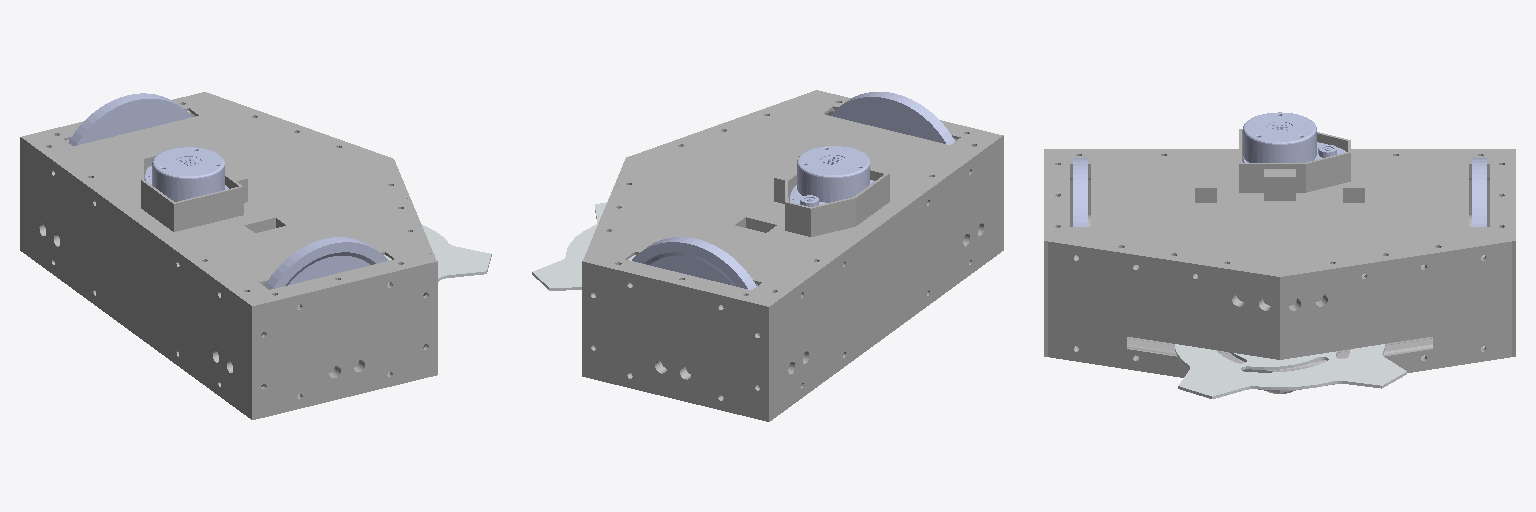
The robot description file, URDF, robot "r8_2020":
<?xml version="1.0" encoding="utf-8"?>
<!-- This URDF was automatically created by SolidWorks to URDF Exporter! Originally created by [author] ([email redacted]) 
     Commit Version: 1.6.0-1-g15f4949  Build Version: 1.6.7594.29634
     For more information, please see http://wiki.ros.org/sw_urdf_exporter -->
<robot
  name="r8_2020">
  <link
    name="base_link">
    <inertial>
      <origin
        xyz="0.024609 1.3198E-05 0.083981"
        rpy="0 0 0" />
      <mass
        value="8.9635" />
      <inertia
        ixx="0.049118"
        ixy="-3.0819E-05"
        ixz="0.00014761"
        iyy="0.014351"
        iyz="4.0842E-08"
        izz="0.057037" />
    </inertial>
    <visual>
      <origin
        xyz="0 0 0"
        rpy="0 0 0" />
      <geometry>
        <mesh
          filename="package://r8_2020/meshes/base_link.STL" />
      </geometry>
      <material
        name="">
        <color
          rgba="0.75294 0.75294 0.75294 1" />
      </material>
    </visual>
    <collision>
      <origin
        xyz="0 0 0"
        rpy="0 0 0" />
      <geometry>
        <mesh
          filename="package://r8_2020/meshes/base_link.STL" />
      </geometry>
    </collision>
  </link>
  <link
    name="left_wheel_link">
    <inertial>
      <origin
        xyz="0 -0.00085238 0"
        rpy="0 0 0" />
      <mass
        value="0.23727" />
      <inertia
        ixx="0.00040071"
        ixy="8.7944E-20"
        ixz="-1.2664E-21"
        iyy="0.00079555"
        iyz="-1.466E-20"
        izz="0.00040071" />
    </inertial>
    <visual>
      <origin
        xyz="0 0 0"
        rpy="0 0 0" />
      <geometry>
        <mesh
          filename="package://r8_2020/meshes/left_wheel_link.STL" />
      </geometry>
      <material
        name="">
        <color
          rgba="0.79216 0.81961 0.93333 1" />
      </material>
    </visual>
    <collision>
      <origin
        xyz="0 0 0"
        rpy="0 0 0" />
      <geometry>
        <mesh
          filename="package://r8_2020/meshes/left_wheel_link.STL" />
      </geometry>
    </collision>
  </link>
  <joint
    name="left_wheel_joint"
    type="continuous">
    <origin
      xyz="0 0.18883 0.088"
      rpy="0 0 0" />
    <parent
      link="base_link" />
    <child
      link="left_wheel_link" />
    <axis
      xyz="0 1 0" />
  </joint>
  <link
    name="right_wheel_link">
    <inertial>
      <origin
        xyz="0 0.00085238 0"
        rpy="0 0 0" />
      <mass
        value="0.23727" />
      <inertia
        ixx="0.00040071"
        ixy="-2.6705E-18"
        ixz="1.0519E-20"
        iyy="0.00079555"
        iyz="1.4331E-20"
        izz="0.00040071" />
    </inertial>
    <visual>
      <origin
        xyz="0 0 0"
        rpy="0 0 0" />
      <geometry>
        <mesh
          filename="package://r8_2020/meshes/right_wheel_link.STL" />
      </geometry>
      <material
        name="">
        <color
          rgba="0.79216 0.81961 0.93333 1" />
      </material>
    </visual>
    <collision>
      <origin
        xyz="0 0 0"
        rpy="0 0 0" />
      <geometry>
        <mesh
          filename="package://r8_2020/meshes/right_wheel_link.STL" />
      </geometry>
    </collision>
  </link>
  <joint
    name="right_wheel_joint"
    type="continuous">
    <origin
      xyz="0 -0.18883 0.088"
      rpy="0 0 0" />
    <parent
      link="base_link" />
    <child
      link="right_wheel_link" />
    <axis
      xyz="0 1 0" />
  </joint>
  <link
    name="weapon_link">
    <inertial>
      <origin
        xyz="-7.7716E-16 -2.7756E-16 0"
        rpy="0 0 0" />
      <mass
        value="0.28203" />
      <inertia
        ixx="0.0010095"
        ixy="-1.5935E-18"
        ixz="-1.67E-20"
        iyy="0.0010095"
        iyz="3.1708E-18"
        izz="0.0020186" />
    </inertial>
    <visual>
      <origin
        xyz="0 0 0"
        rpy="0 0 0" />
      <geometry>
        <mesh
          filename="package://r8_2020/meshes/weapon_link.STL" />
      </geometry>
      <material
        name="">
        <color
          rgba="0.89804 0.91765 0.92941 1" />
      </material>
    </visual>
    <collision>
      <origin
        xyz="0 0 0"
        rpy="0 0 0" />
      <geometry>
        <mesh
          filename="package://r8_2020/meshes/weapon_link.STL" />
      </geometry>
    </collision>
  </link>
  <joint
    name="weapon_joint"
    type="continuous">
    <origin
      xyz="0.13388 -0.0001548 0.0438"
      rpy="0 0 0" />
    <parent
      link="base_link" />
    <child
      link="weapon_link" />
    <axis
      xyz="0 0 -1" />
  </joint>
  <link
    name="rplidar_link">
    <inertial>
      <origin
        xyz="-0.044908 0.0066147 0.16457"
        rpy="0 0 0" />
      <mass
        value="1.3308" />
      <inertia
        ixx="0.0009607"
        ixy="8.0198E-07"
        ixz="3.0916E-06"
        iyy="0.00061492"
        iyz="0.00015824"
        izz="0.0010982" />
    </inertial>
    <visual>
      <origin
        xyz="0 0 0"
        rpy="0 0 0" />
      <geometry>
        <mesh
          filename="package://r8_2020/meshes/rplidar_link.STL" />
      </geometry>
      <material
        name="">
        <color
          rgba="0.79216 0.81961 0.93333 1" />
      </material>
    </visual>
    <collision>
      <origin
        xyz="0 0 0"
        rpy="0 0 0" />
      <geometry>
        <mesh
          filename="package://r8_2020/meshes/rplidar_link.STL" />
      </geometry>
    </collision>
  </link>
  <joint
    name="rplidar_joint"
    type="fixed">
    <origin
      xyz="0 0 0"
      rpy="0 0 0" />
    <parent
      link="base_link" />
    <child
      link="rplidar_link" />
    <axis
      xyz="0 0 0" />
  </joint>
</robot>

--- What the picture shows (computed from the rendered views, not written in the file) ---
3 views of the same robot in one strip: view 1: azimuth 30°, elevation 25°; view 2: azimuth 150°, elevation 25°; view 3: azimuth 270°, elevation 25° (orthographic).
Robot: r8_2020 — 5 links, 4 joints (3 continuous, 1 fixed); root link base_link; default pose: every joint at zero.
Visible links, largest first — view 1: base_link, rplidar_link, left_wheel_link, right_wheel_link, weapon_link; view 2: base_link, rplidar_link, right_wheel_link, left_wheel_link, weapon_link; view 3: base_link, weapon_link, rplidar_link, left_wheel_link, right_wheel_link.
Link boxes in pixels (x1,y1,x2,y2): base_link: [20, 92, 437, 419]; rplidar_link: [145, 147, 228, 201]; left_wheel_link: [68, 93, 191, 145]; right_wheel_link: [265, 237, 388, 289]; weapon_link: [384, 225, 491, 281]; base_link: [582, 90, 1003, 421]; rplidar_link: [790, 146, 874, 206]; right_wheel_link: [830, 92, 954, 144]; left_wheel_link: [632, 237, 756, 289]; weapon_link: [532, 202, 635, 290]; base_link: [1044, 129, 1515, 393]; weapon_link: [1175, 344, 1406, 398]; rplidar_link: [1243, 112, 1345, 162]; left_wheel_link: [1472, 158, 1486, 226]; right_wheel_link: [1073, 158, 1087, 226].
Size in the robot's own frame: 0.3574 by 0.446 by 0.187 metres.
Meshes: 5 distinct files referenced, 5 mesh visuals loaded (5 binary STL).
